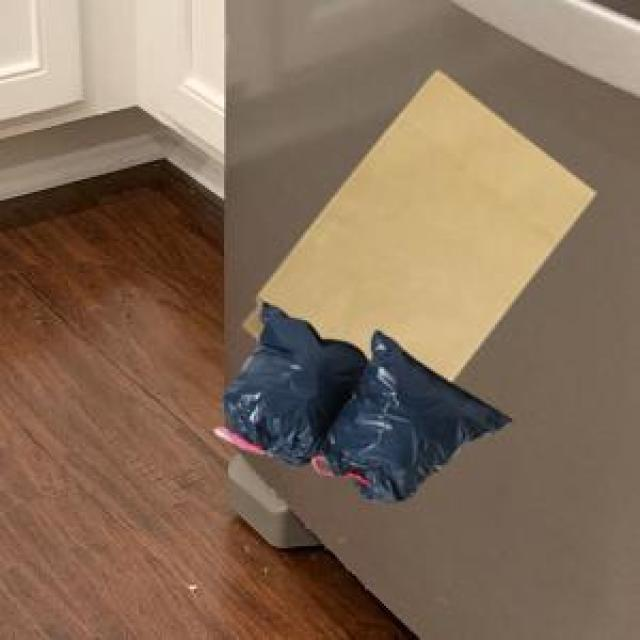miscellaneous trash: (211, 299, 508, 497)
paper: (239, 66, 591, 378)
